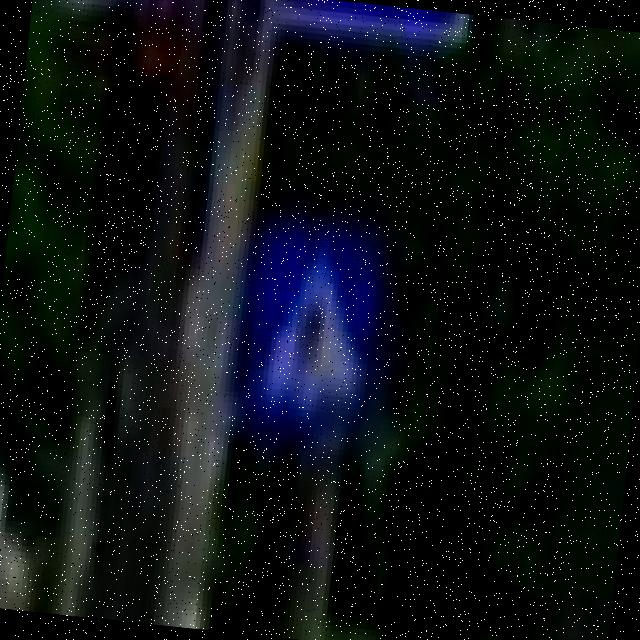Przejscie dla pieszych: (233, 215, 400, 452)
